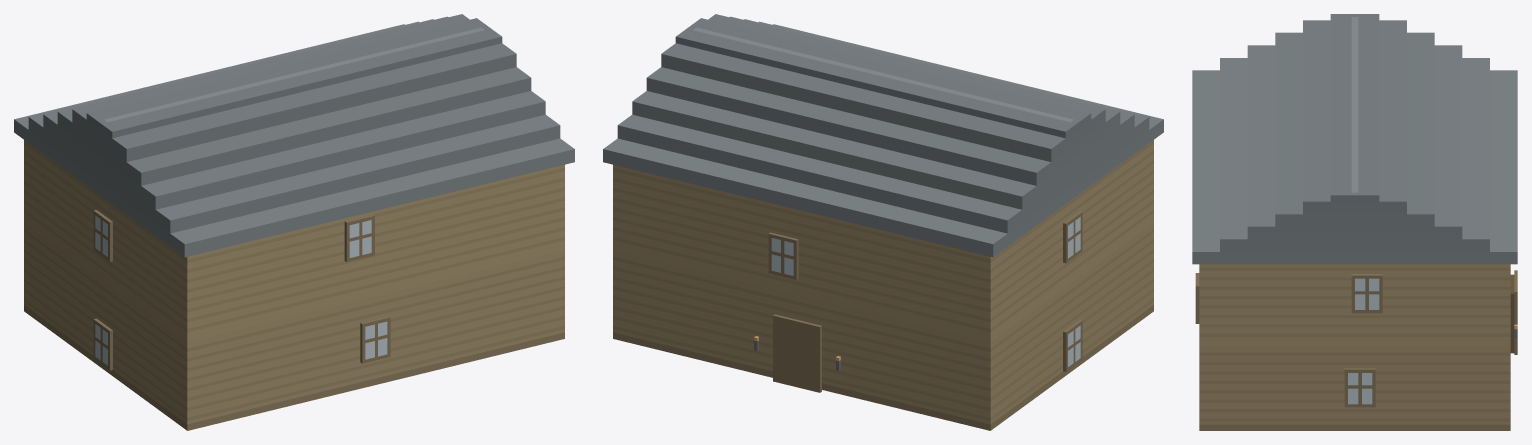
Rendered from joyeria_03.glb.
The picture shows the model from 3 angles, left to right: view 1: azimuth 30°, elevation 25°; view 2: azimuth 150°, elevation 25°; view 3: azimuth 270°, elevation 25°; orthographic projection. The views are drawn at different scales.
Parts seen in each view (by area): view 1: joyeria_03; view 2: joyeria_03; view 3: joyeria_03.
Part boxes in pixels (x1,y1,x2,y2): joyeria_03: (14, 14, 574, 430); joyeria_03: (603, 14, 1163, 430); joyeria_03: (1192, 14, 1517, 430).
Bounding box in the file's own units: 12.4 × 7.6 × 9.4.
